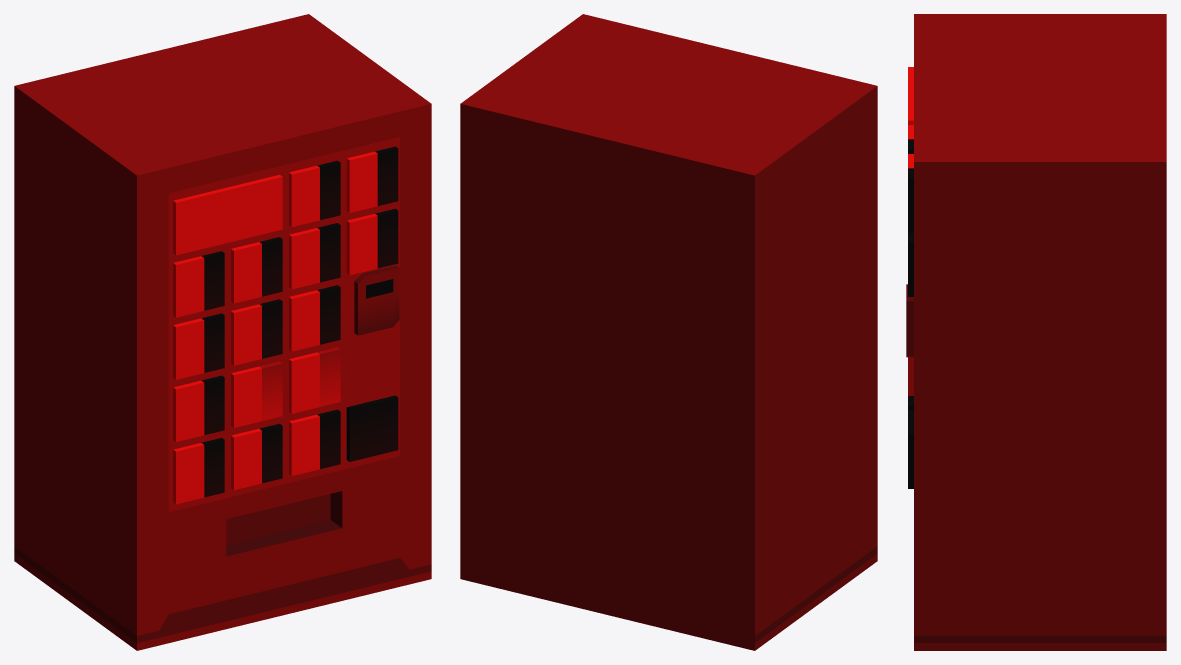
The model's file is VendingMachine001.glb.
3 views of the same model, side by side, from view 1: azimuth 30°, elevation 25°; view 2: azimuth 150°, elevation 25°; view 3: azimuth 270°, elevation 25° (orthographic). The views are drawn at different scales.
Visible parts, largest first — view 1: VendingMachine001; view 2: VendingMachine001; view 3: VendingMachine001.
Part boxes in pixels (box(x1,y1,x2,y2)): VendingMachine001: box(14, 14, 431, 650); VendingMachine001: box(460, 14, 877, 650); VendingMachine001: box(906, 14, 1166, 650).
Size of the model in its own units: 7.63 by 11.77 by 5.67.
